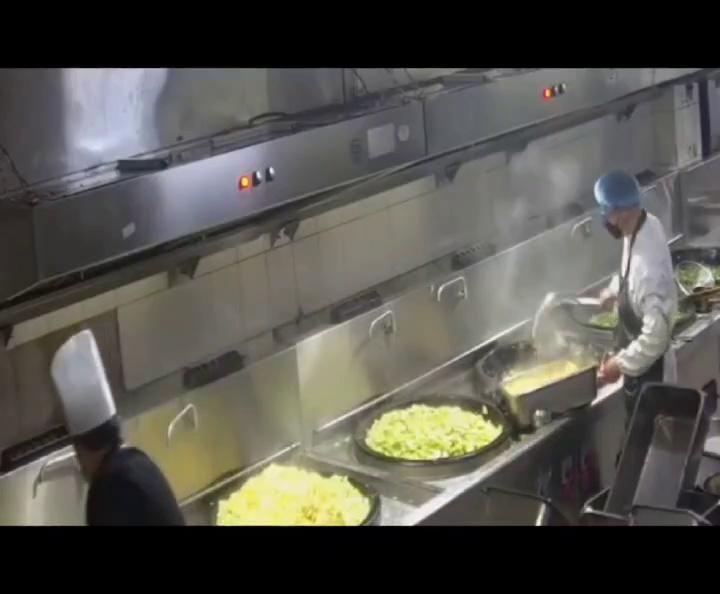gloves: (594, 171, 645, 210)
mask: (603, 216, 622, 239)
